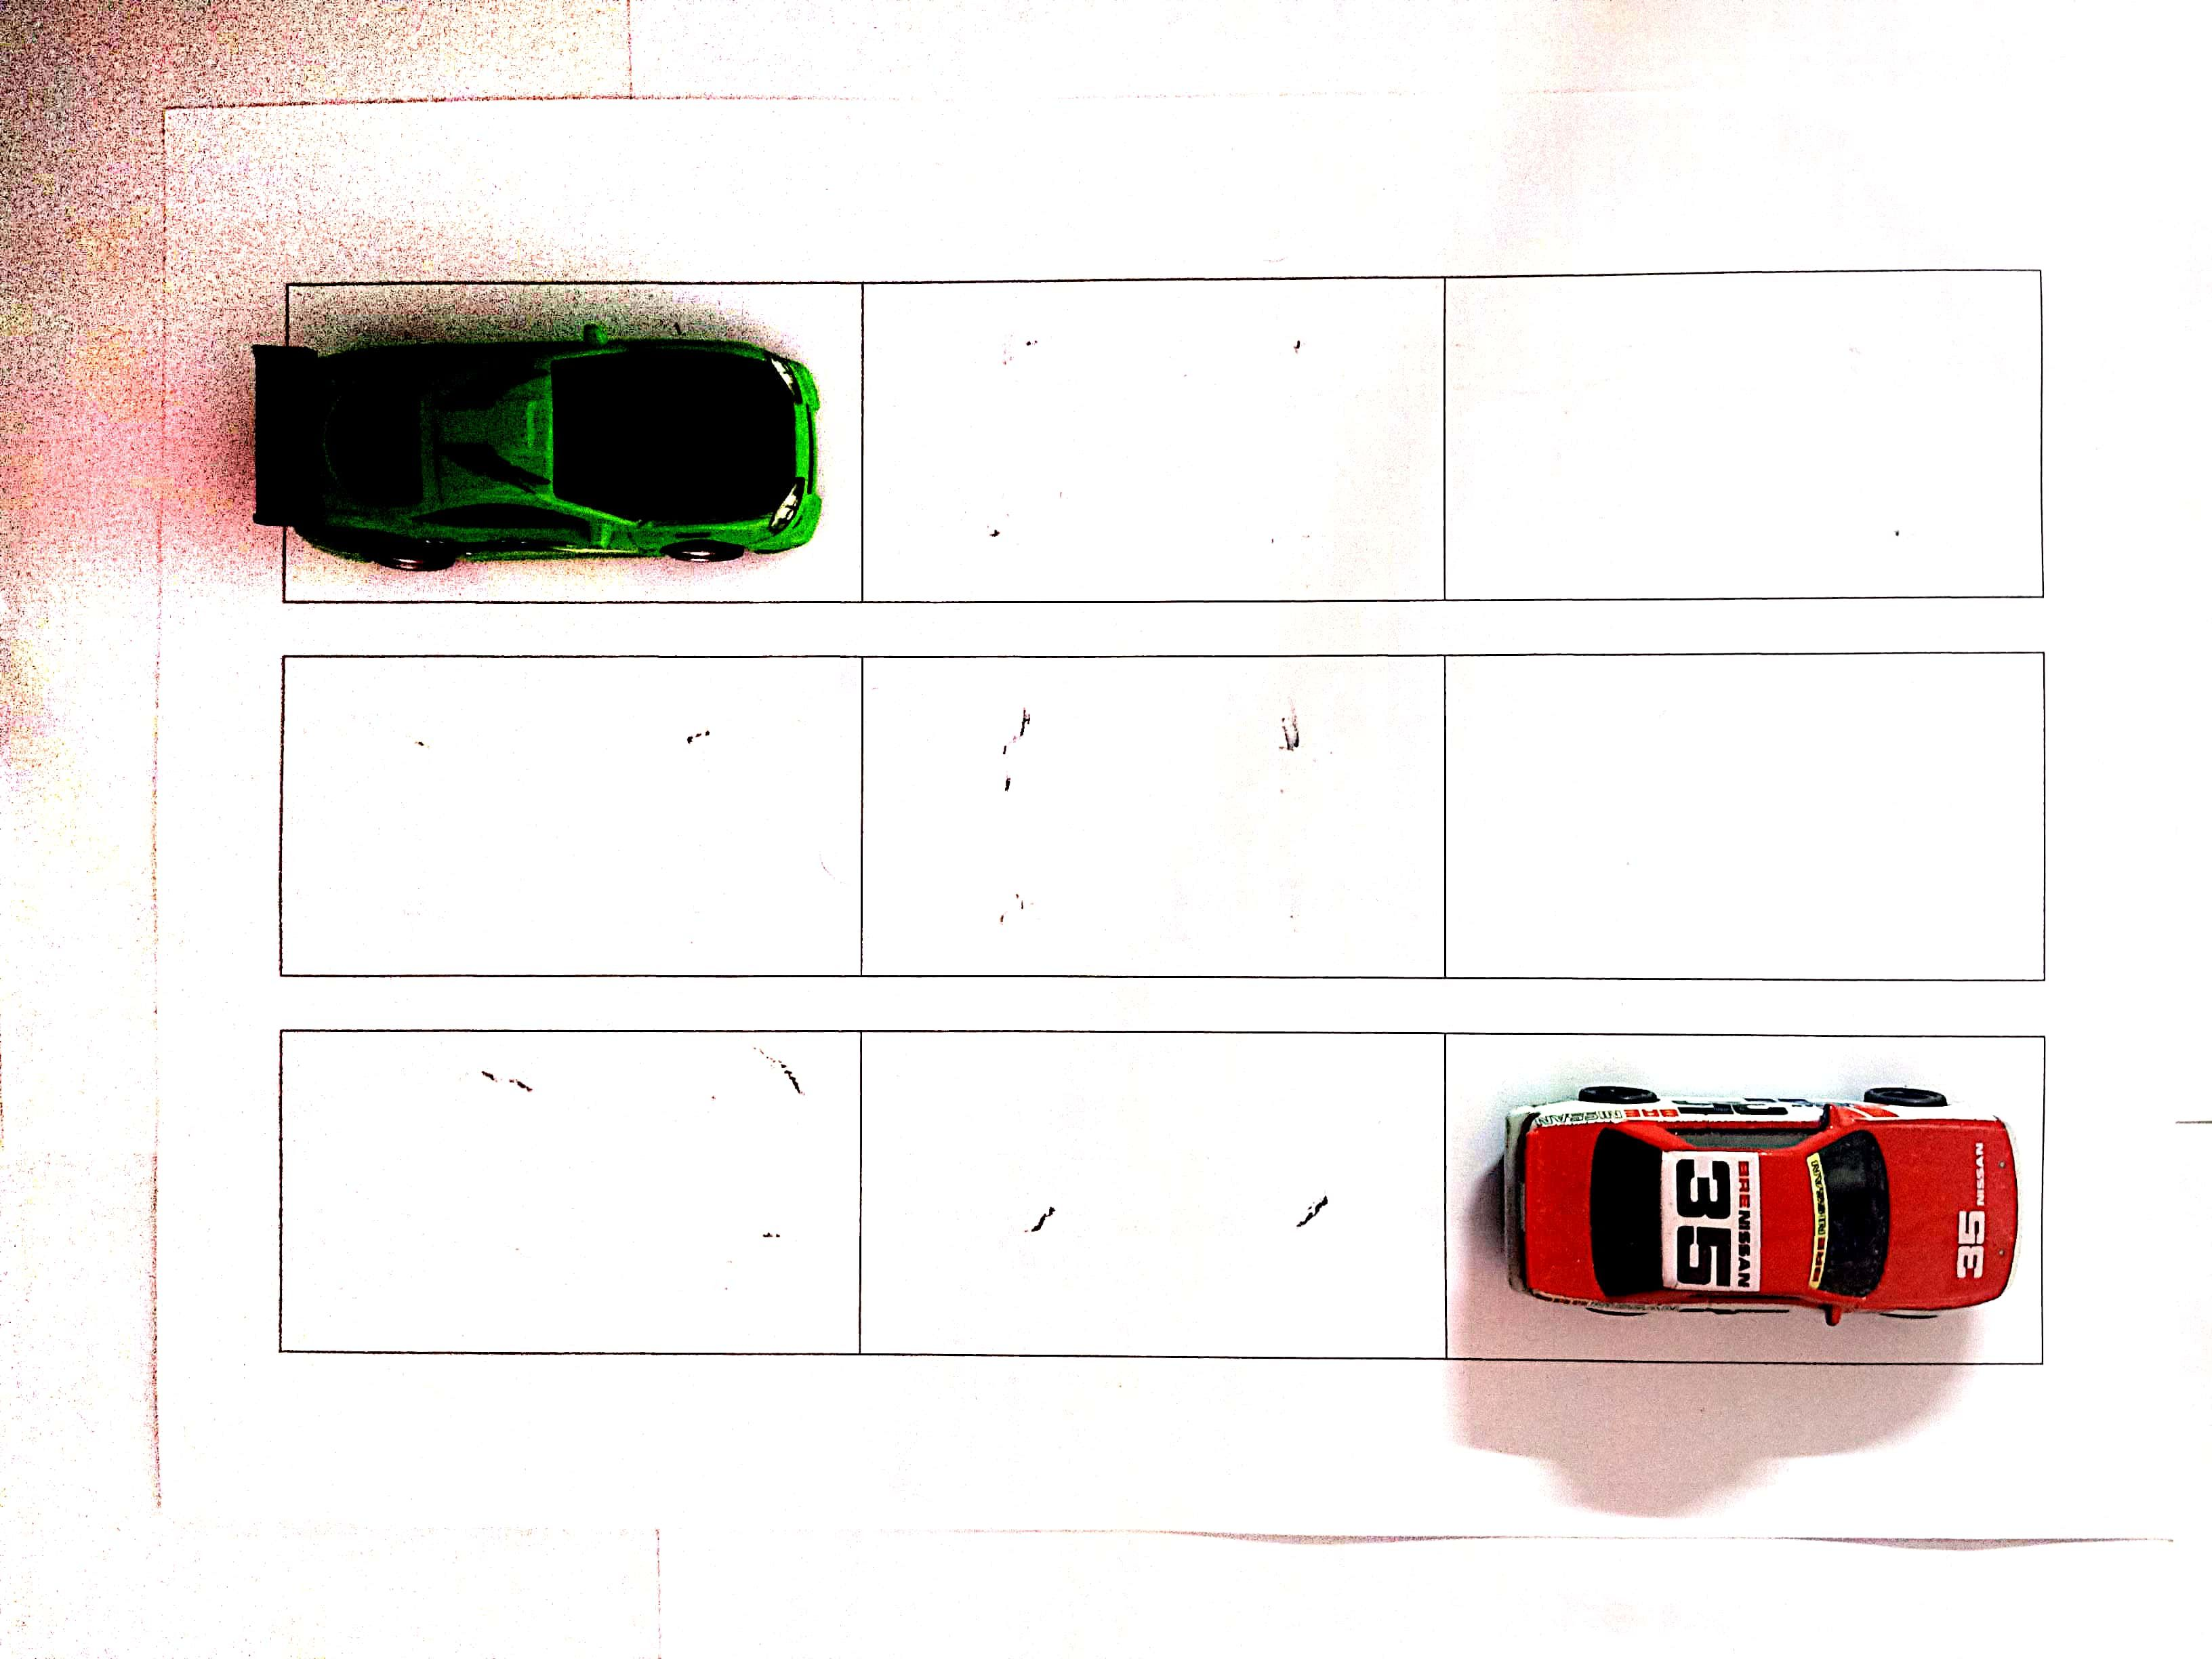Busy: (1446, 1037, 2054, 1358), (286, 288, 869, 603)
Free: (1442, 267, 2041, 601), (1446, 650, 2038, 985), (860, 648, 1442, 979), (862, 1028, 1442, 1354), (286, 1028, 857, 1354), (286, 653, 860, 976), (871, 288, 1440, 598)
